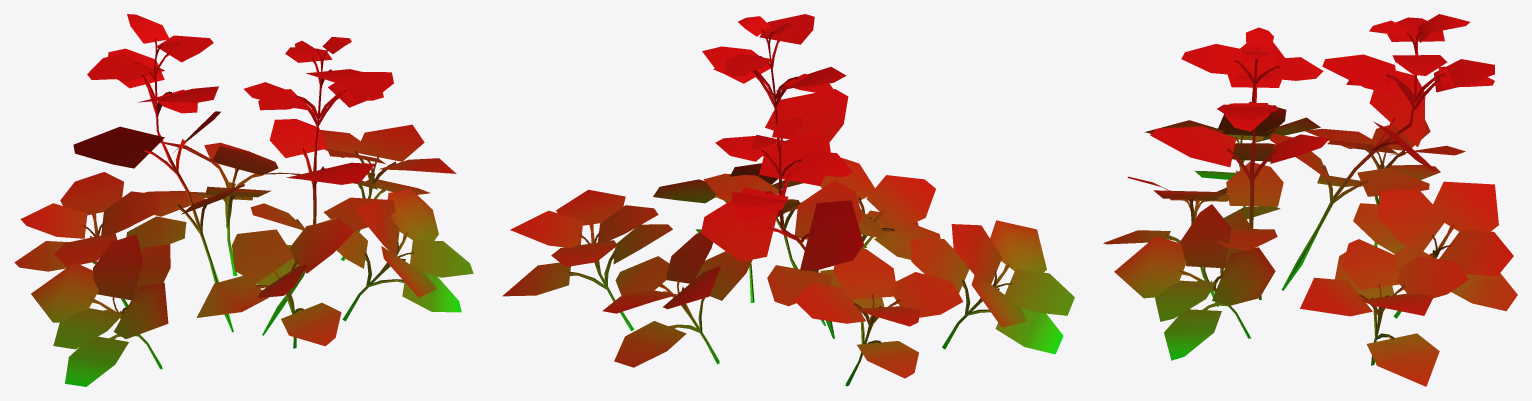
File: Yellow Archangel_LOD2_Var5_wcwmcfvia.fbx
The picture shows the model from 3 angles, left to right: view 1: azimuth 30°, elevation 25°; view 2: azimuth 150°, elevation 25°; view 3: azimuth 270°, elevation 25°; orthographic projection. The views are drawn at different scales.
Visible parts, largest first — view 1: _nquj_Var5_LOD2; view 2: _nquj_Var5_LOD2; view 3: _nquj_Var5_LOD2.
Part boxes in pixels (x1,y1,x2,y2): _nquj_Var5_LOD2: (14, 14, 473, 386); _nquj_Var5_LOD2: (502, 14, 1074, 386); _nquj_Var5_LOD2: (1103, 14, 1517, 386).
Size of the model in its own units: 12.95 by 7.64 by 9.87.
